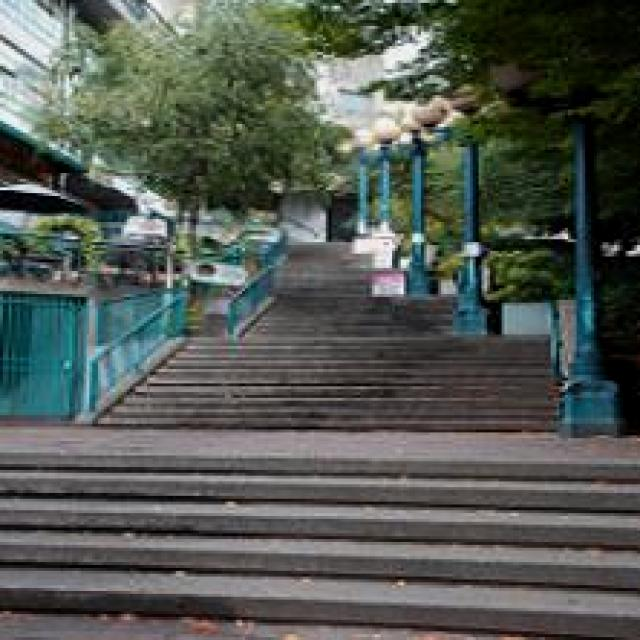upstair: (111, 388, 491, 636)
